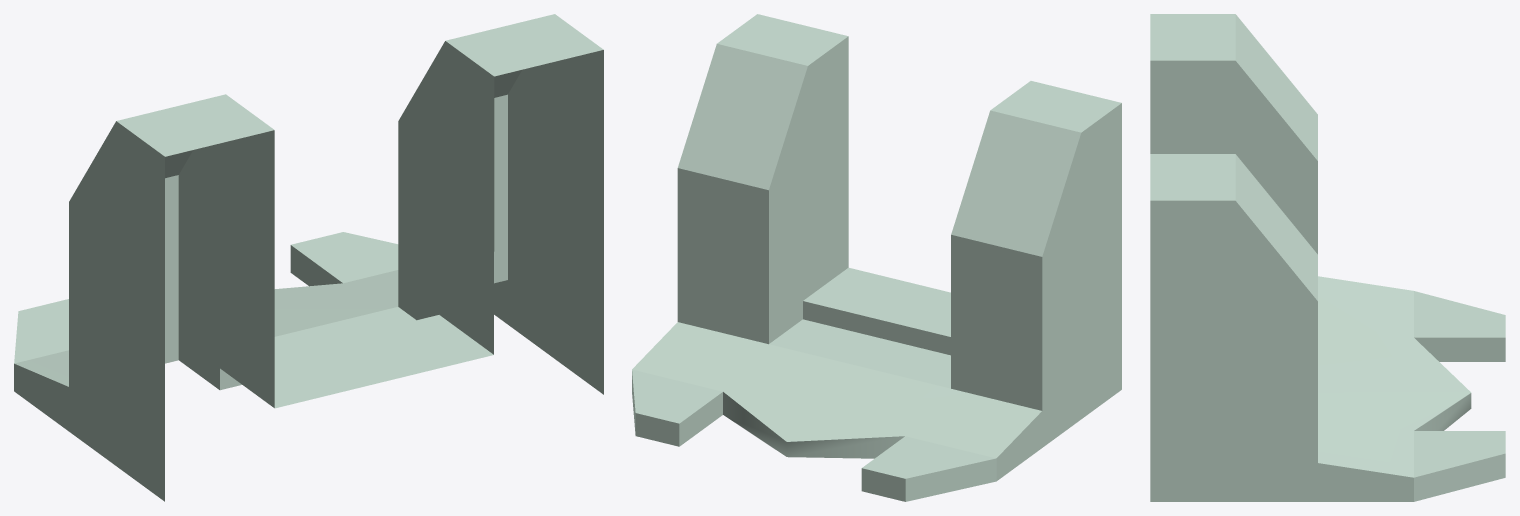
3 views of the same model, side by side, from view 1: azimuth 30°, elevation 25°; view 2: azimuth 150°, elevation 25°; view 3: azimuth 270°, elevation 25° (orthographic). The views are drawn at different scales.
Parts seen in each view (by area): view 1: Object22; view 2: Object22; view 3: Object22.
Part boxes in pixels (box(x1,y1,x2,y2)): Object22: box(14, 14, 603, 501); Object22: box(632, 14, 1121, 501); Object22: box(1150, 14, 1505, 501).
Size of the model in its own units: 40000 by 30068 by 32153.
